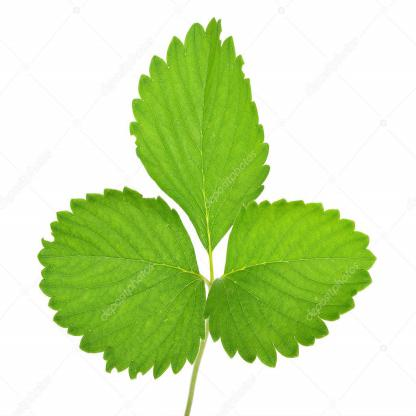Strawberry leaf: (131, 1, 279, 258), (34, 175, 199, 380), (203, 194, 378, 367)
